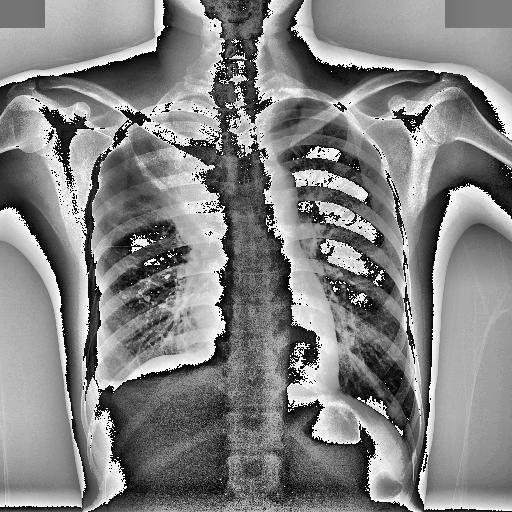1- Atelectasis: (124, 100, 222, 252), (129, 102, 226, 240)
10- Pleural effusion: (86, 370, 134, 412), (86, 358, 122, 402), (84, 376, 118, 420)
4- Consolidation: (128, 110, 230, 262), (124, 100, 222, 252), (129, 102, 226, 240)
8- Nodule-Mass: (124, 100, 222, 252), (119, 268, 173, 314)
9- Other lesion: (104, 200, 112, 210)
